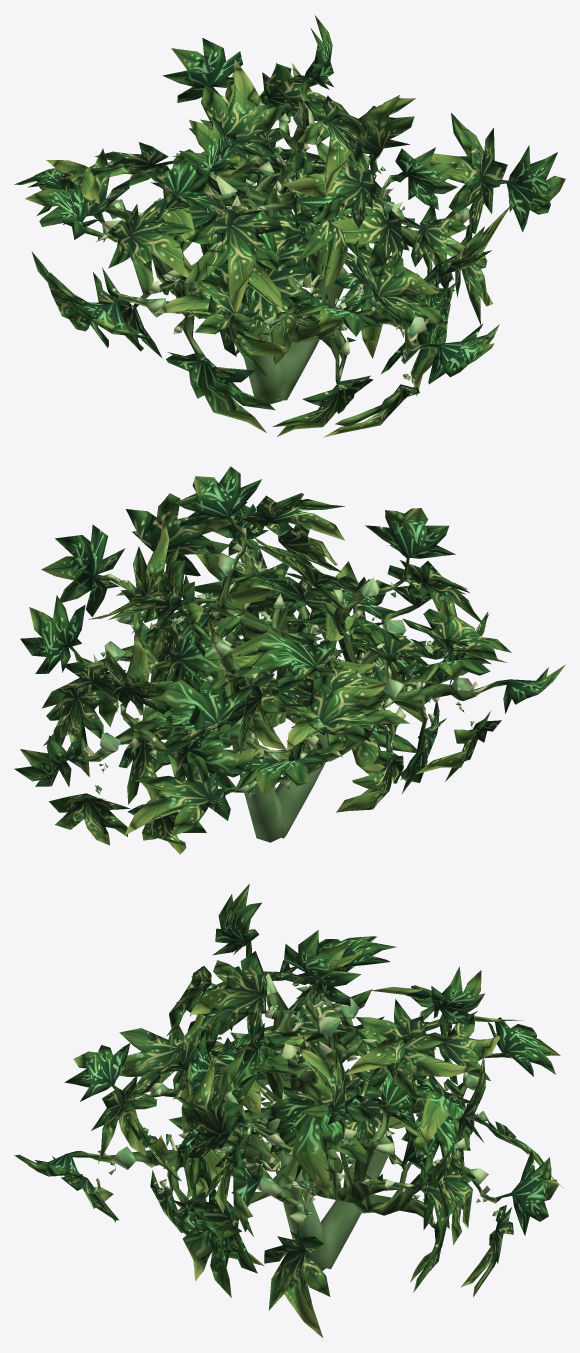
The model's file is mossy_mound.glb.
3 views of the same model, one above another, from view 1: azimuth 30°, elevation 25°; view 2: azimuth 150°, elevation 25°; view 3: azimuth 270°, elevation 25° (orthographic).
Parts seen in each view (by area): view 1: Mesh; view 2: Mesh; view 3: Mesh.
Part boxes in pixels (<box>): Mesh: <box>14,15,565,437</box>; Mesh: <box>14,466,565,854</box>; Mesh: <box>14,884,563,1337</box>.
Bounding box in the file's own units: 1.1 × 0.7504 × 1.05.
Materials: 1 (1 with a texture image).
